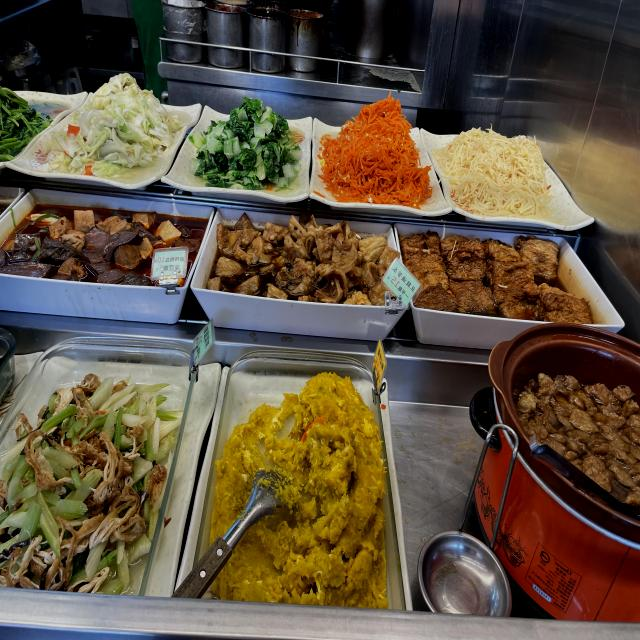Scrambled eggs with carrots: (338, 128, 405, 193)
cabbage: (69, 108, 155, 160)
